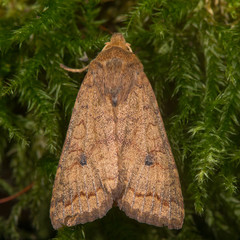Alucitidae: (42, 28, 184, 232)
moth: (40, 26, 187, 232)
